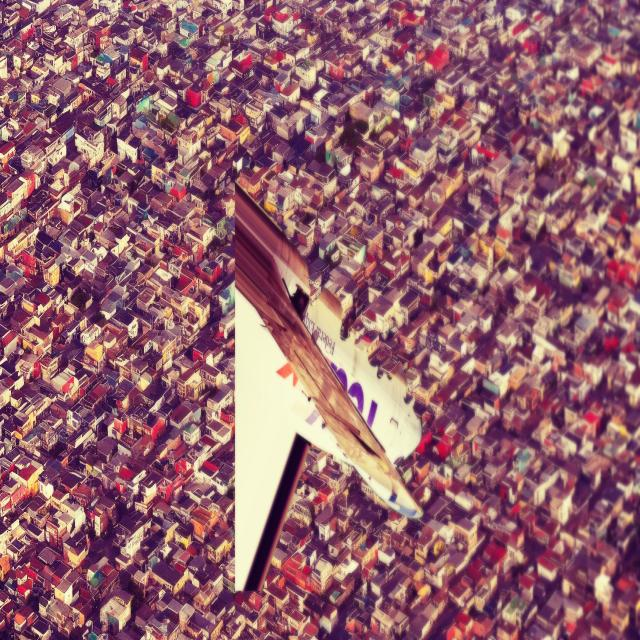airplane: (232, 178, 424, 594)
